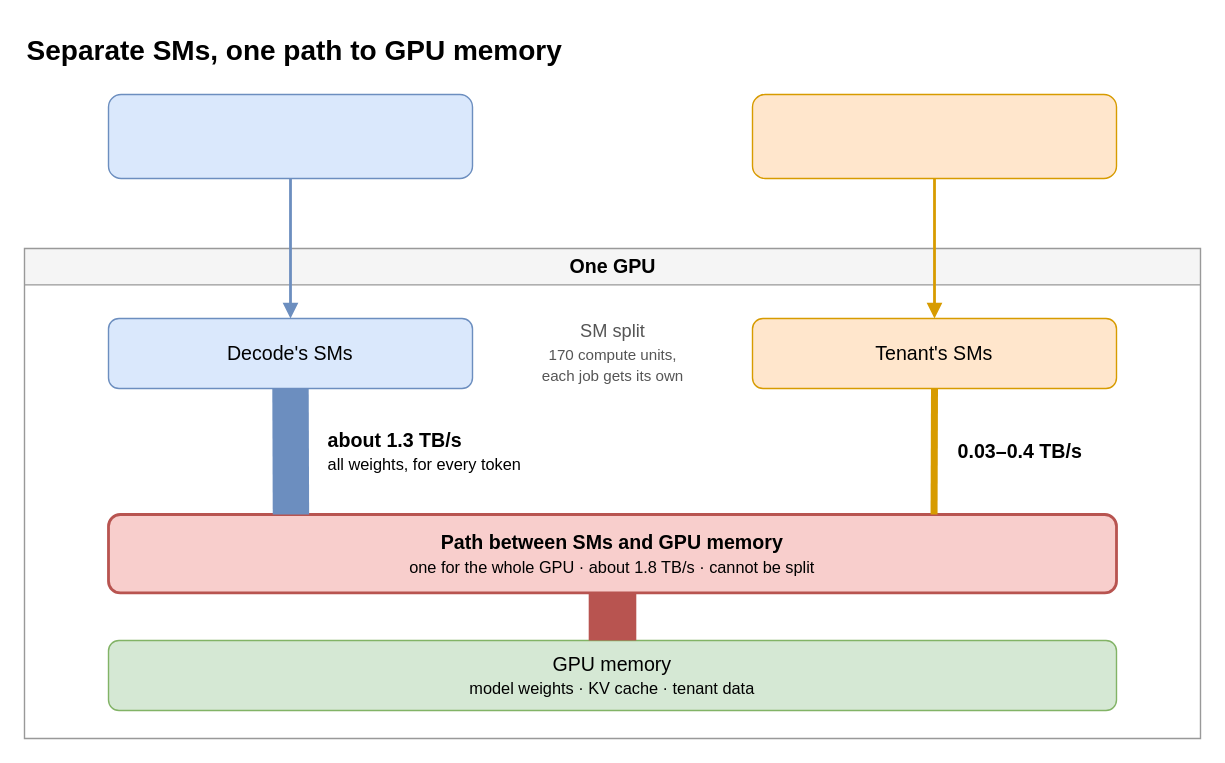
The diagram is 1225 pixels wide and 763 high, and some of its shapes have lost their labels. Each missing label, with the box of its shape:
Decode LLM serving · latency matters: (107, 93, 472, 178)
Tenant second job, e.g. fine-tuning: (751, 93, 1116, 178)
